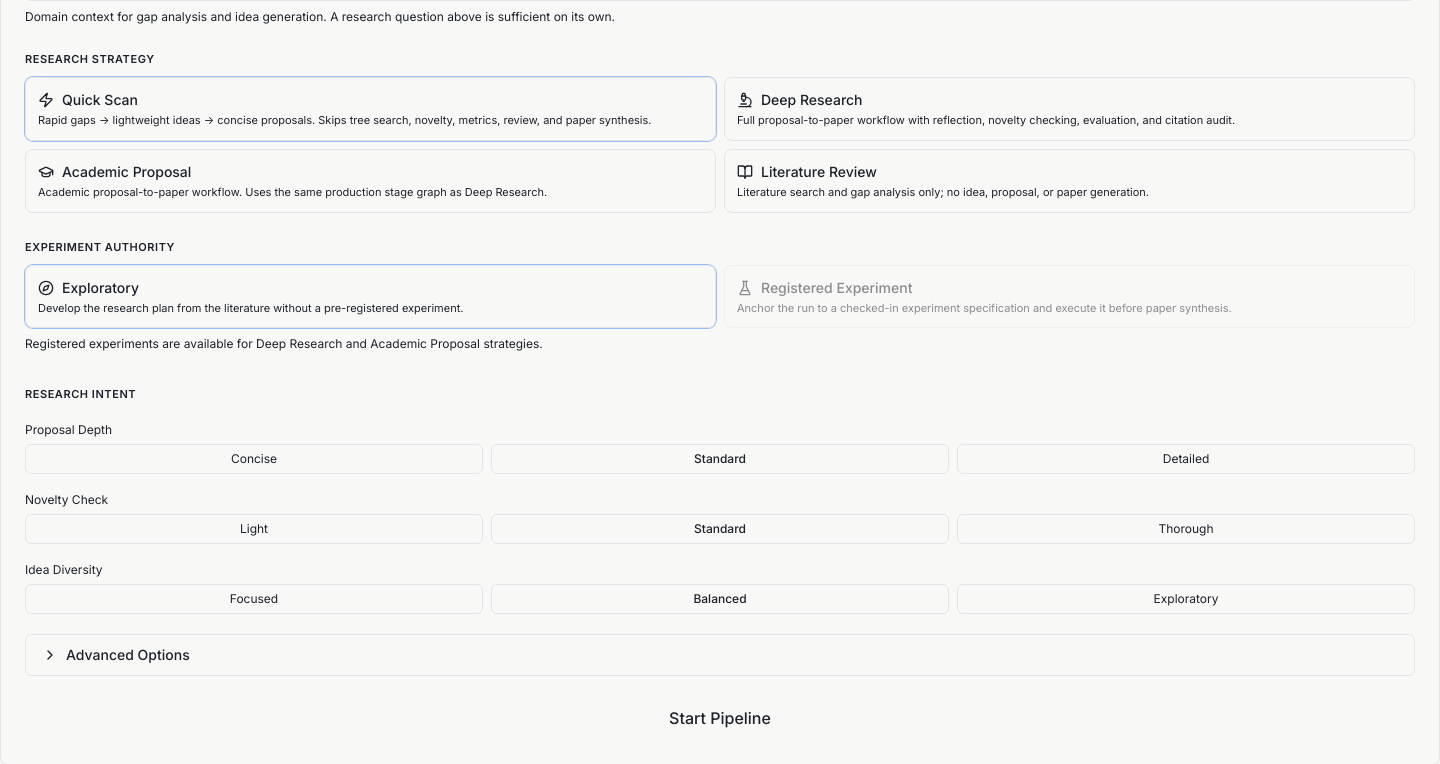
it: TEST-13-01-05: max_gaps range is 1-20 (not 1-50)
(page scrolled)
Click the button with test id "advanced-toggle" at (128, 655), box [26, 635, 1414, 675]
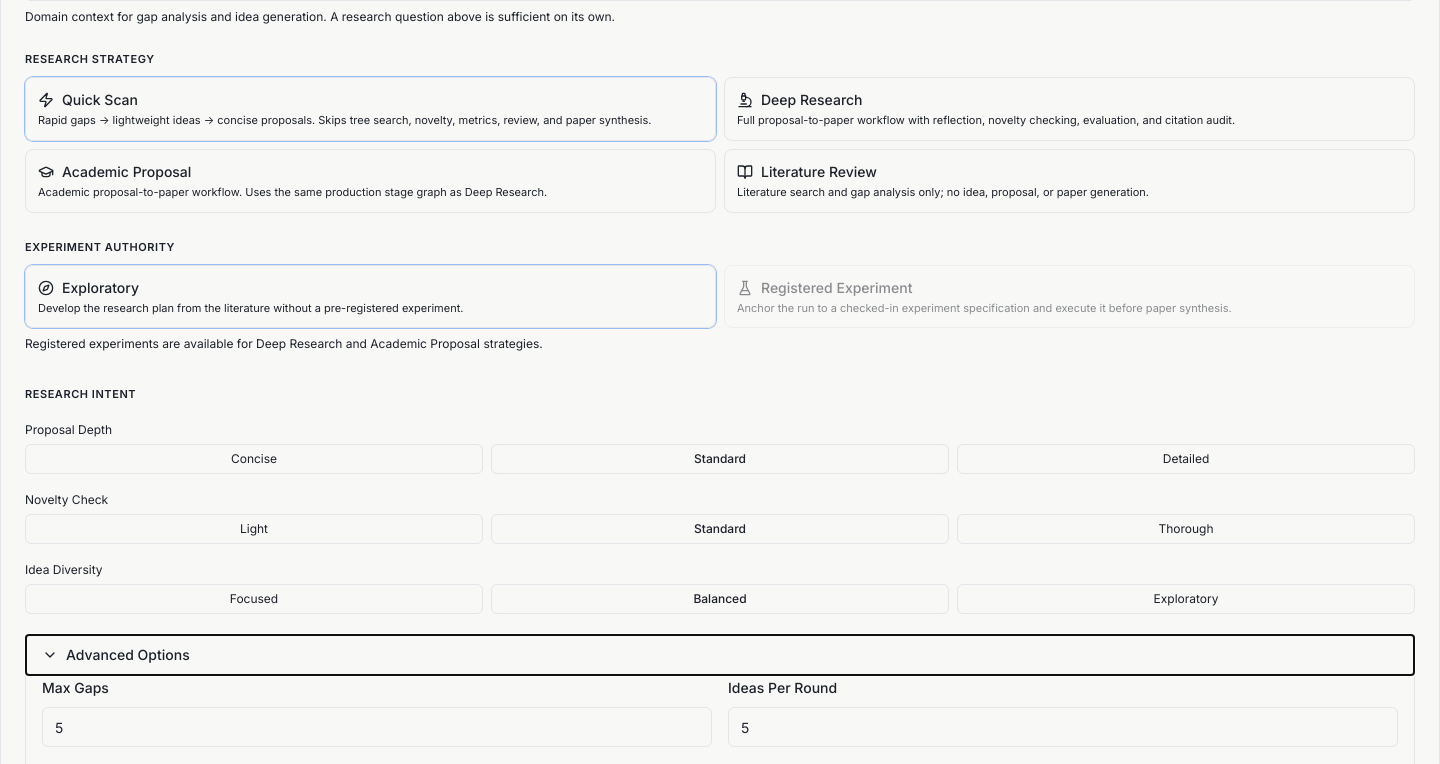
expect the number field with test id "max-gaps-input" is shown: met, box [42, 707, 712, 747]
